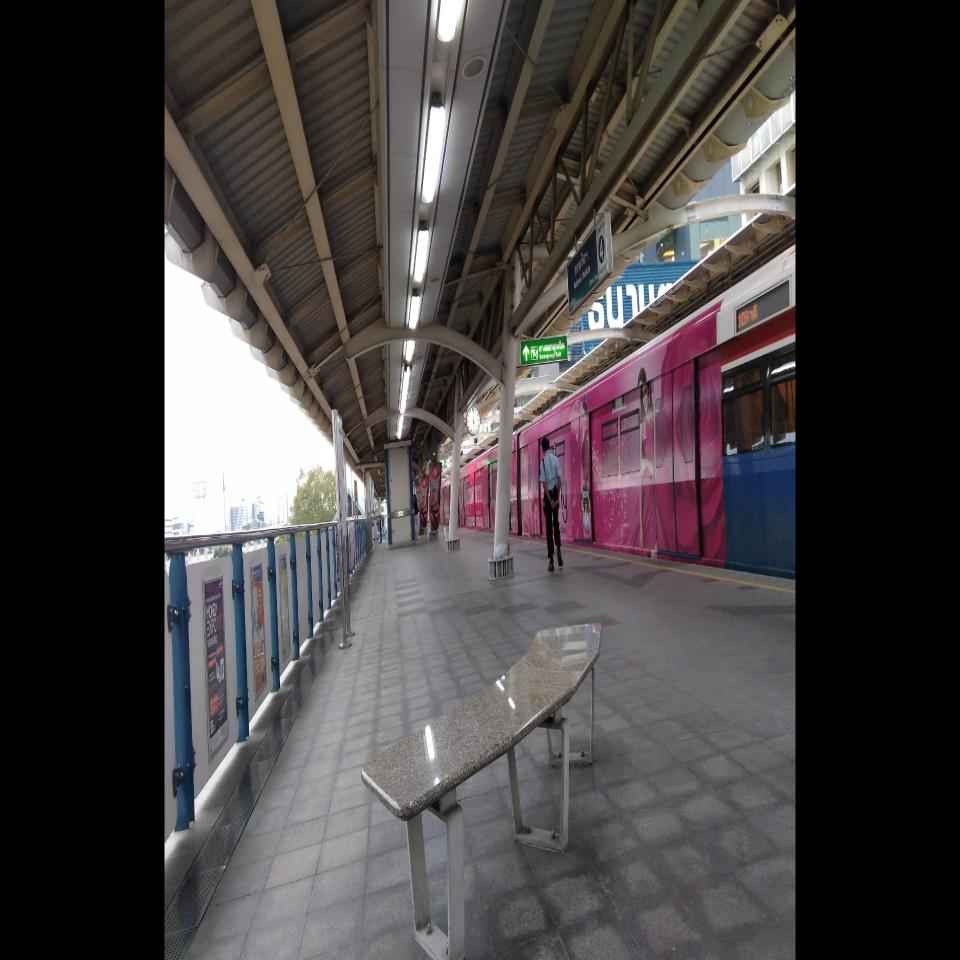signage: (573, 232, 590, 311)
